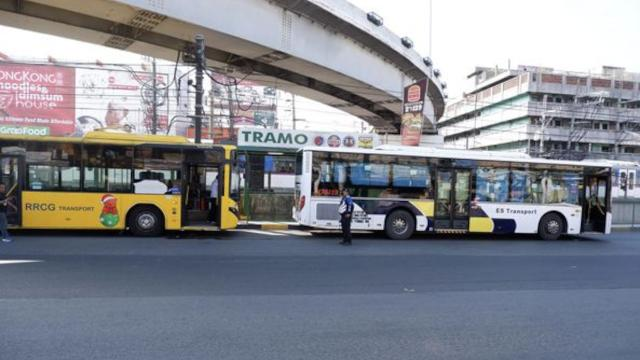bus: (290, 142, 610, 240), (0, 129, 237, 236)
